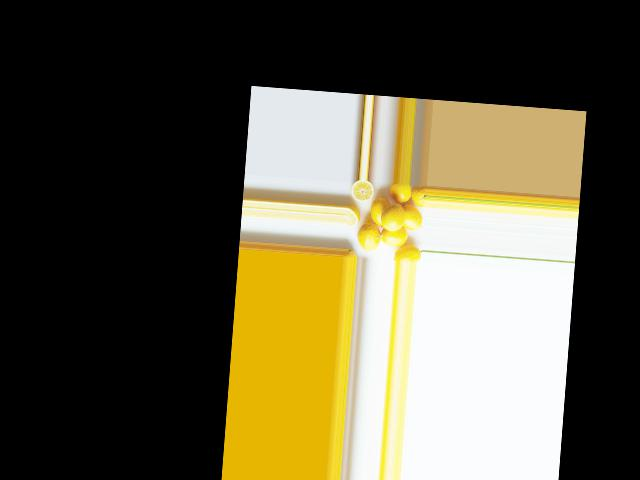lemon: (389, 183, 412, 204)
